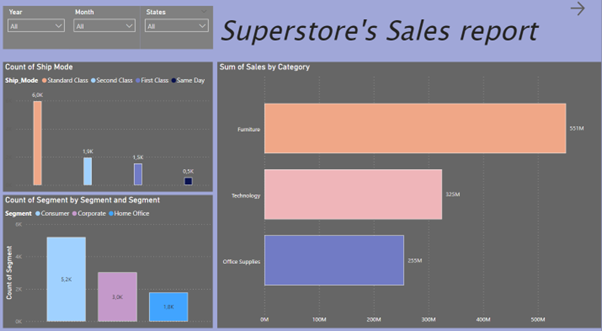

The dashboard page shown, as its layout file describes it:
{"tool":"powerbi","page":{"name":"Operative","canvas":[1280,720],"ordinal":0},"visuals":[{"type":"clusteredColumnChart","title":"Count of Ship Mode","fields":{"Y":["CountNonNull(Superstore (2).Ship_Mode)"],"Category":["Superstore (2).Ship_Mode"],"Series":["Superstore (2).Ship_Mode"]},"box":[7.8,139.1,446.4,276.2],"z":0},{"type":"columnChart","fields":{"Category":["Superstore (2).Segment"],"Y":["CountNonNull(Superstore (2).Segment)"],"Series":["Superstore (2).Segment"]},"box":[7.8,422.1,446.4,283],"z":1000},{"type":"slicer","fields":{"Values":["Superstore (2).Order_Date.Variation.Date Hierarchy.Year"]},"box":[7.8,19.5,141,92.4],"z":2000},{"type":"slicer","fields":{"Values":["Superstore (2).Order_Date.Variation.Date Hierarchy.Month"]},"box":[148.8,19.5,150.8,92.4],"z":3000},{"type":"slicer","fields":{"Values":["Superstore (2).States"]},"box":[299.6,19.5,154.7,92.4],"z":4000},{"type":"clusteredBarChart","fields":{"Y":["Sum(Superstore (2).Sales)"],"Category":["Superstore (2).Category"]},"box":[464,139.1,816,566.1],"z":5000},{"type":"textbox","box":[463.9,26,706.6,101.2],"z":6000},{"type":"actionButton","box":[1209,5.4,70.7,40.3],"z":7000}]}

Visuals, with their boxes in screenshot pixels (x1, y1, x2, y2), scaled from the page's 1280x720 canvas onto the 602x331 screenshot:
"Count of Ship Mode" clusteredColumnChart: detection(4, 64, 214, 191)
columnChart - Superstore (2).Segment x CountNonNull(Superstore (2).Segment): detection(4, 194, 214, 324)
slicer - Superstore (2).Order_Date.Variation.Date Hierarchy.Year: detection(4, 9, 70, 51)
slicer - Superstore (2).Order_Date.Variation.Date Hierarchy.Month: detection(70, 9, 141, 51)
slicer - Superstore (2).States: detection(141, 9, 214, 51)
clusteredBarChart - Sum(Superstore (2).Sales) x Superstore (2).Category: detection(218, 64, 601, 324)
textbox: detection(218, 12, 551, 58)
actionButton: detection(569, 2, 601, 21)
